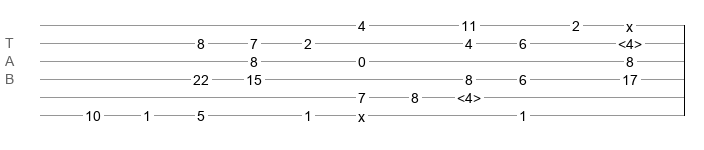0: (358, 54, 366, 64)
1: (143, 108, 151, 118), (304, 108, 312, 118), (519, 108, 527, 118)
10: (85, 108, 101, 118)
11: (461, 18, 477, 28)
15: (246, 72, 262, 82)
17: (622, 72, 638, 82)
2: (304, 36, 312, 46), (572, 18, 580, 28)
22: (193, 72, 209, 82)
4: (358, 18, 366, 28), (465, 36, 473, 46)
5: (197, 108, 205, 118)
6: (519, 72, 527, 82), (519, 36, 527, 46)
7: (250, 36, 258, 46), (358, 90, 366, 100)
8: (197, 36, 205, 46), (250, 54, 258, 64), (411, 90, 419, 100), (465, 72, 473, 82), (626, 54, 634, 64)
harmonic: (457, 90, 481, 100), (618, 36, 642, 46)
x: (358, 109, 365, 117), (626, 19, 633, 27)
